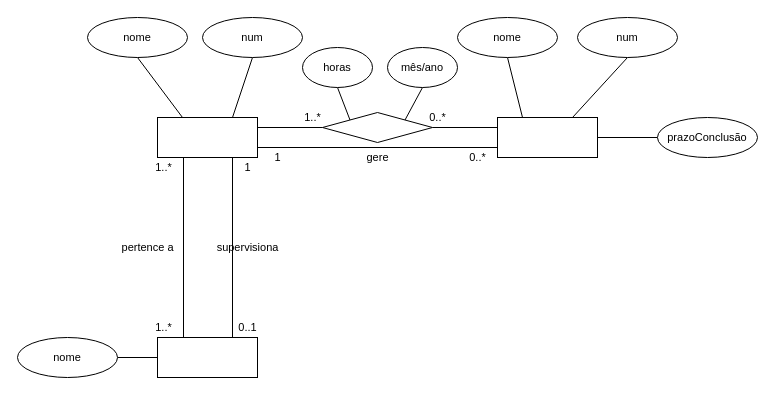
This 775x395 diagram has some shape labels left out. Here are the shapes that lost their labels. From the top down, the centre of each, then its label:
the point at 207,137: Empregado
the point at 377,127: trabalha em
the point at 547,137: Projeto
the point at 207,357: Departamento
